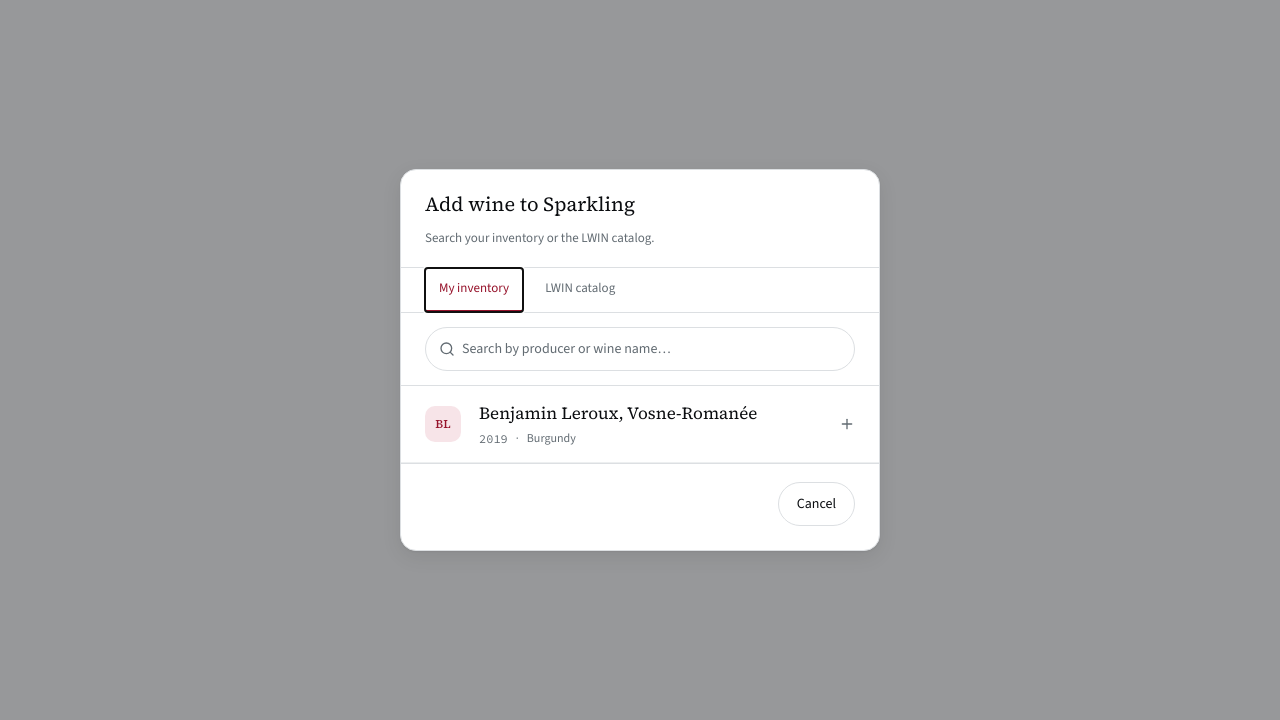
Test: AddWineModal pricing and destination › names the section the wine will land in, not the one on screen
The image size is (1280, 720).
Click the button "BL Benjamin Leroux, Vosne-Romanée 2019 · Burgundy": (640, 424) x1=401 y1=386 x2=879 y2=463
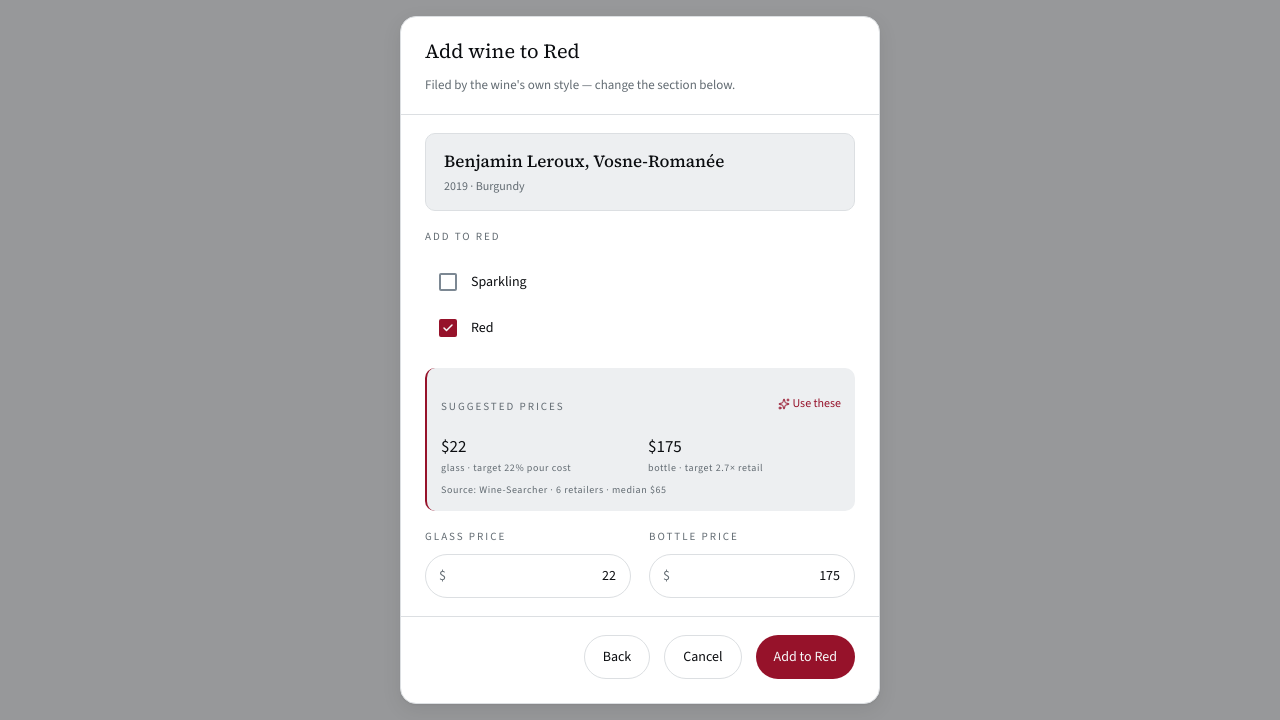
Check: the heading with id "add-wine-title" reads "Add wine to Red", box x1=425 y1=37 x2=580 y2=65
Check: the button "Add to Red" is shown, box x1=756 y1=635 x2=855 y2=679
